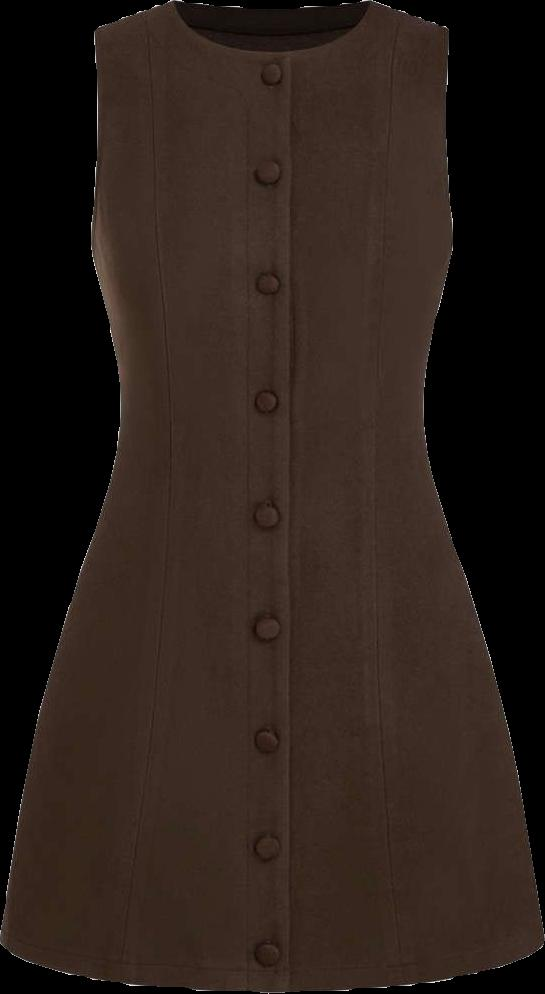Bodice: (91, 0, 452, 408)
Hemline: (0, 932, 544, 992)
Neckline: (169, 0, 373, 59)
Skirt: (1, 408, 543, 991)
